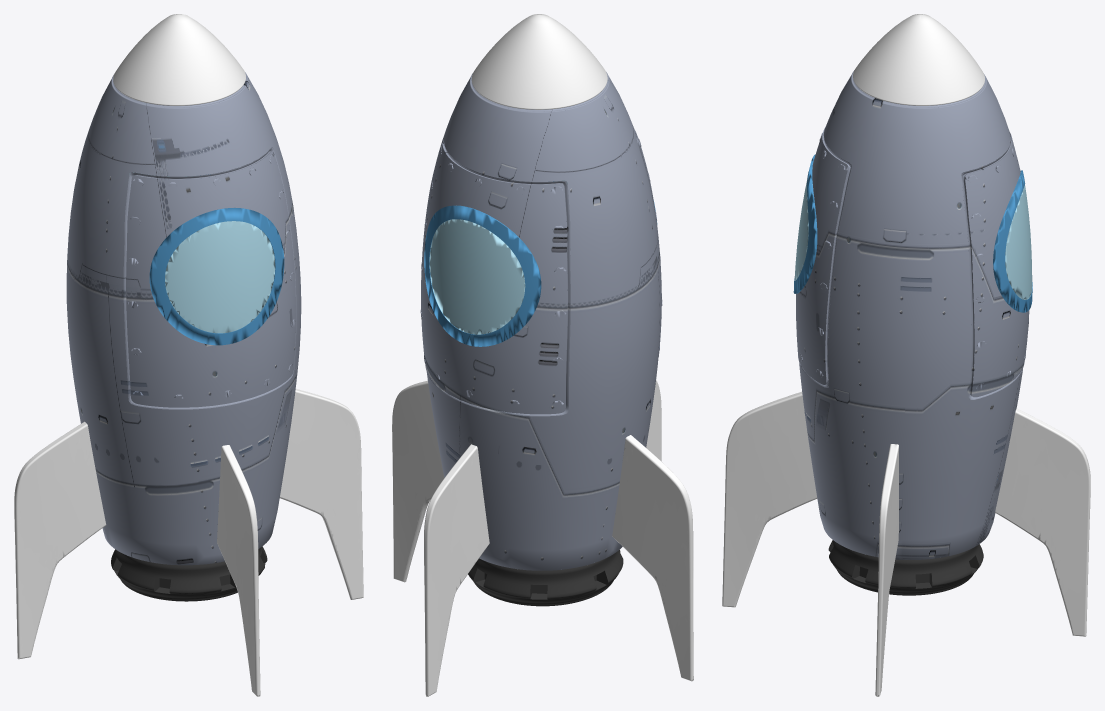
Rendered from rocketawebco.glb.
3 views of the same model, side by side, from view 1: azimuth 30°, elevation 25°; view 2: azimuth 150°, elevation 25°; view 3: azimuth 270°, elevation 25° (orthographic). The views are drawn at different scales.
Parts seen in each view (by area): view 1: Object_59_Plastic (1)_0; view 2: Object_59_Plastic (1)_0; view 3: Object_59_Plastic (1)_0.
Part boxes in pixels (x1=…): Object_59_Plastic (1)_0: x1=14, y1=14, x2=363, y2=696; Object_59_Plastic (1)_0: x1=392, y1=14, x2=693, y2=696; Object_59_Plastic (1)_0: x1=722, y1=14, x2=1090, y2=696.
Bounding box in the file's own units: 0.7584 × 1.39 × 0.7611.
5 materials, 1 textured.
